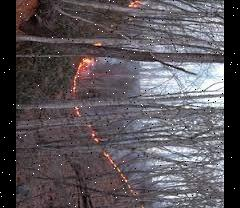fire: (64, 51, 120, 100)
